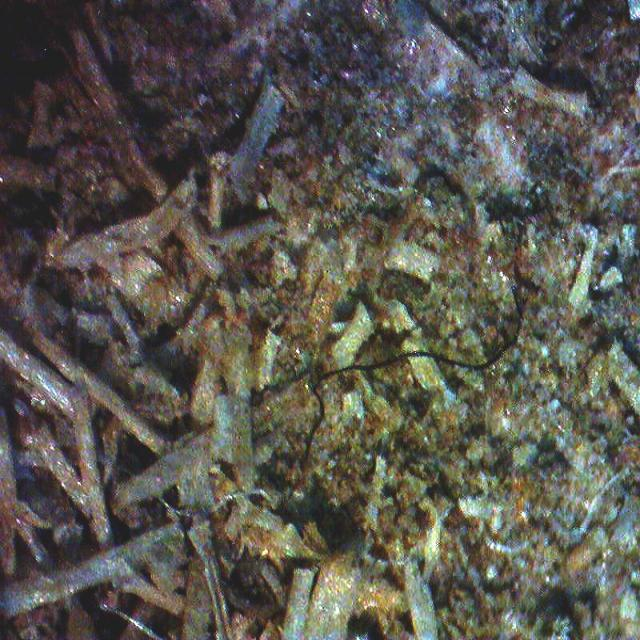microplastic: (308, 286, 523, 449)
